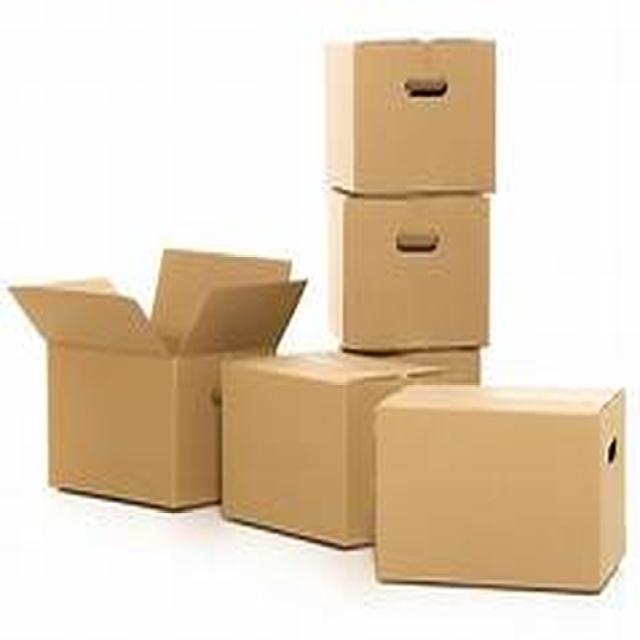box: (25, 228, 284, 538), (344, 361, 629, 605), (199, 335, 500, 558), (314, 186, 518, 339), (291, 31, 517, 166)
